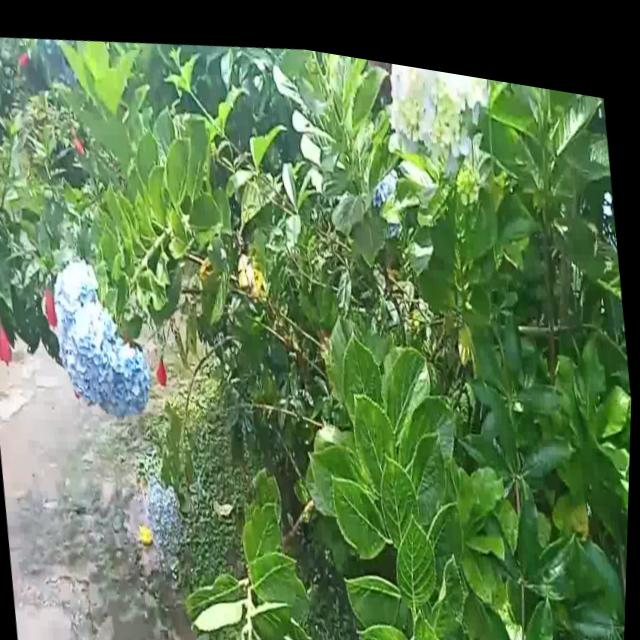Flower: (50, 248, 158, 424), (383, 50, 497, 155), (143, 460, 191, 552), (0, 311, 21, 371), (154, 341, 173, 386), (44, 276, 60, 326), (0, 140, 5, 188)
